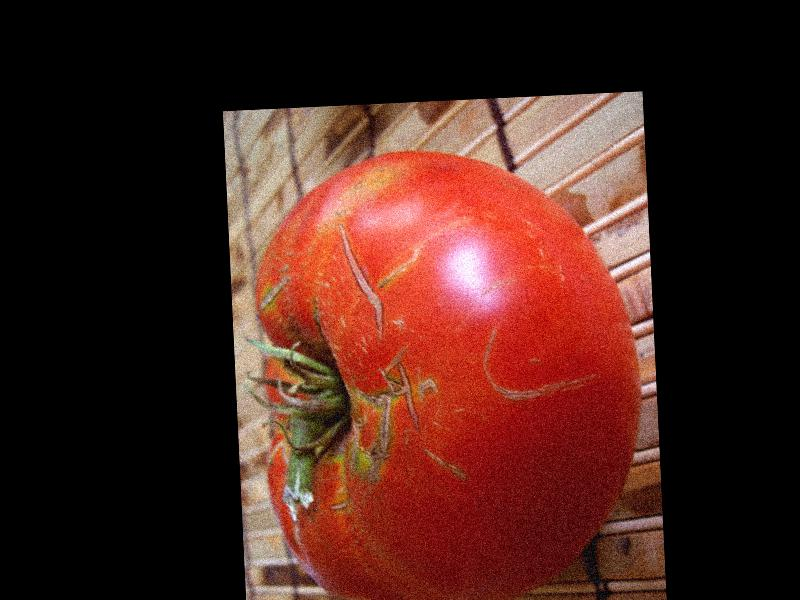Tomato: (248, 141, 644, 600)
